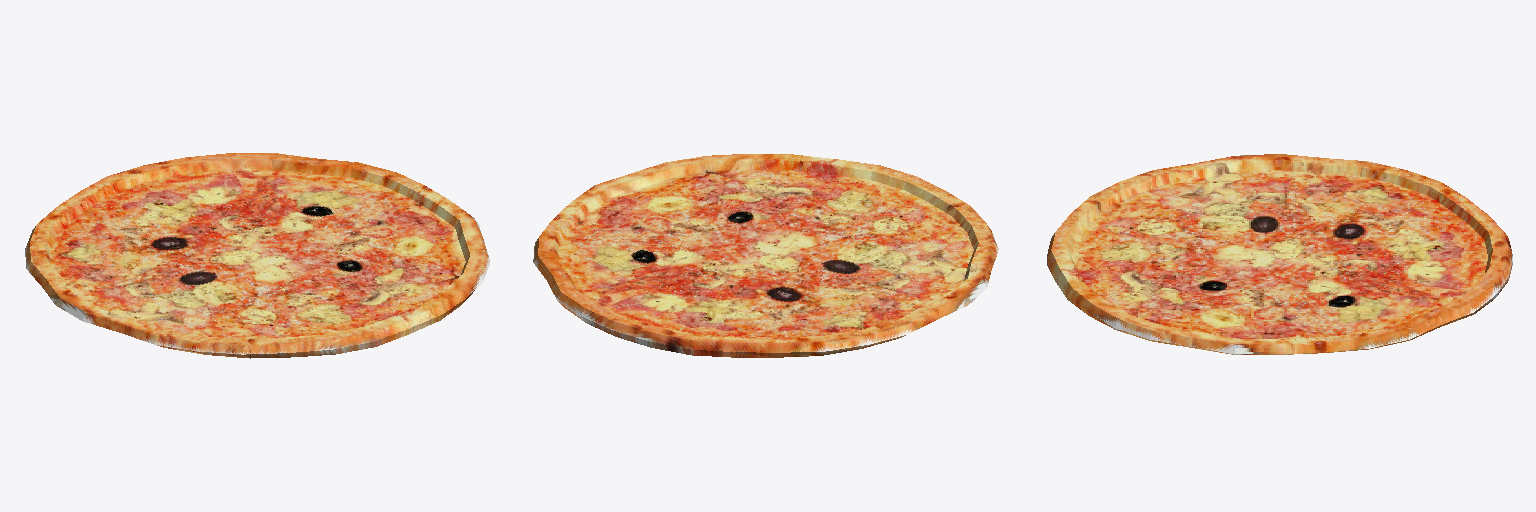
3 views of the same model, side by side, from view 1: azimuth 30°, elevation 25°; view 2: azimuth 150°, elevation 25°; view 3: azimuth 270°, elevation 25° (orthographic).
Visible parts, largest first — view 1: Cylinder_4; view 2: Cylinder_4; view 3: Cylinder_4.
Part boxes in pixels (x1,y1,x2,y2): Cylinder_4: (25, 153, 490, 358); Cylinder_4: (533, 154, 998, 357); Cylinder_4: (1047, 154, 1512, 354).
Bounding box in the file's own units: 29.73 × 0.9094 × 30.
1 materials, 1 textured.